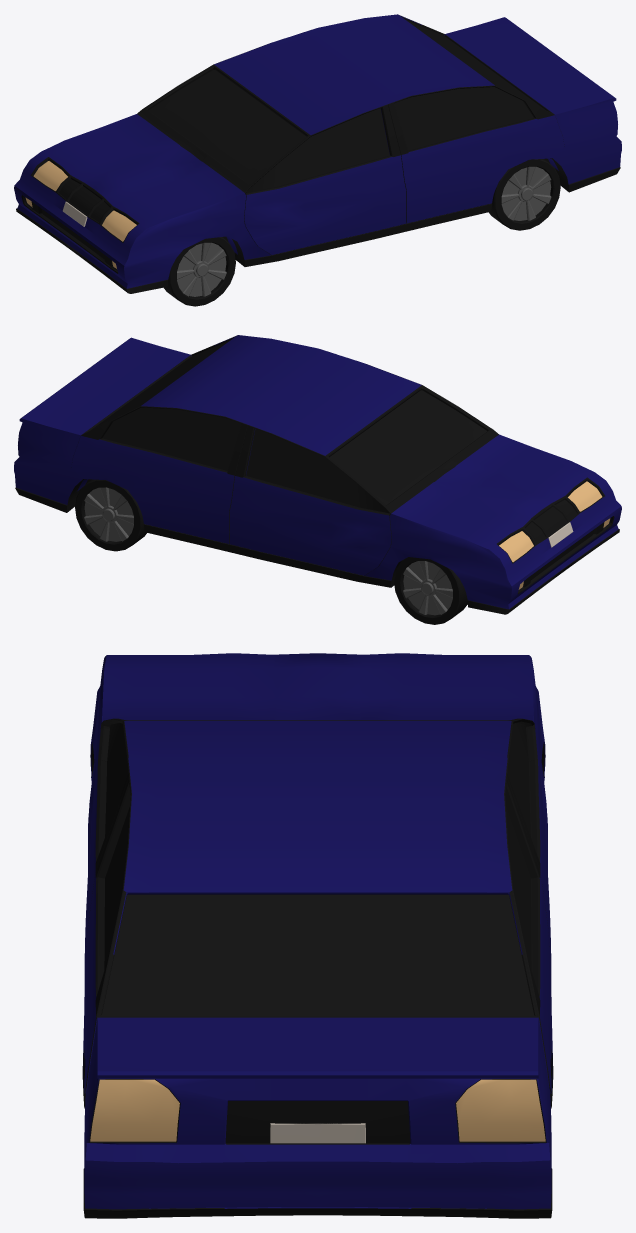
Rendered from lanos.FBX.
The picture shows the model from 3 angles, top to bottom: view 1: azimuth 30°, elevation 25°; view 2: azimuth 150°, elevation 25°; view 3: azimuth 270°, elevation 25°; orthographic projection. The views are drawn at different scales.
Parts seen in each view (by area): view 1: Box004; view 2: Box004; view 3: Box004.
Boxes of the visible parts, x1,y1,x2,y2 form: Box004: [14, 14, 621, 306]; Box004: [14, 335, 621, 624]; Box004: [82, 653, 553, 1218].
Bounding box in the file's own units: 60.91 × 25 × 17.98.
